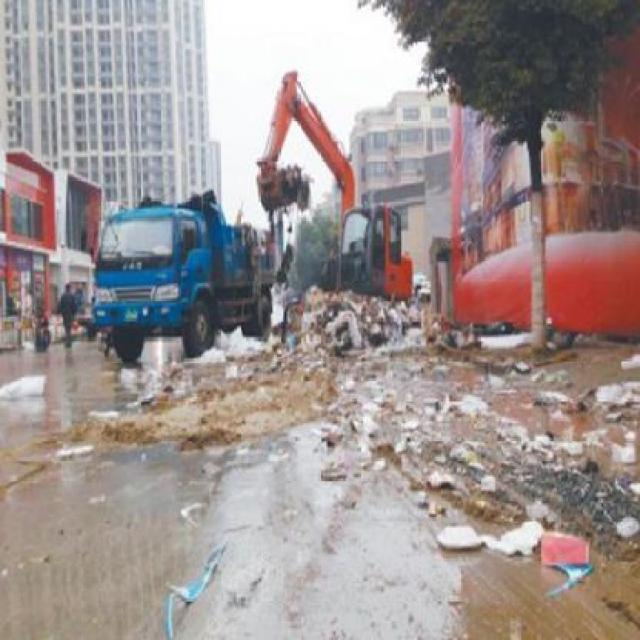garbage: (279, 282, 635, 578), (0, 349, 282, 442), (166, 566, 222, 638)
